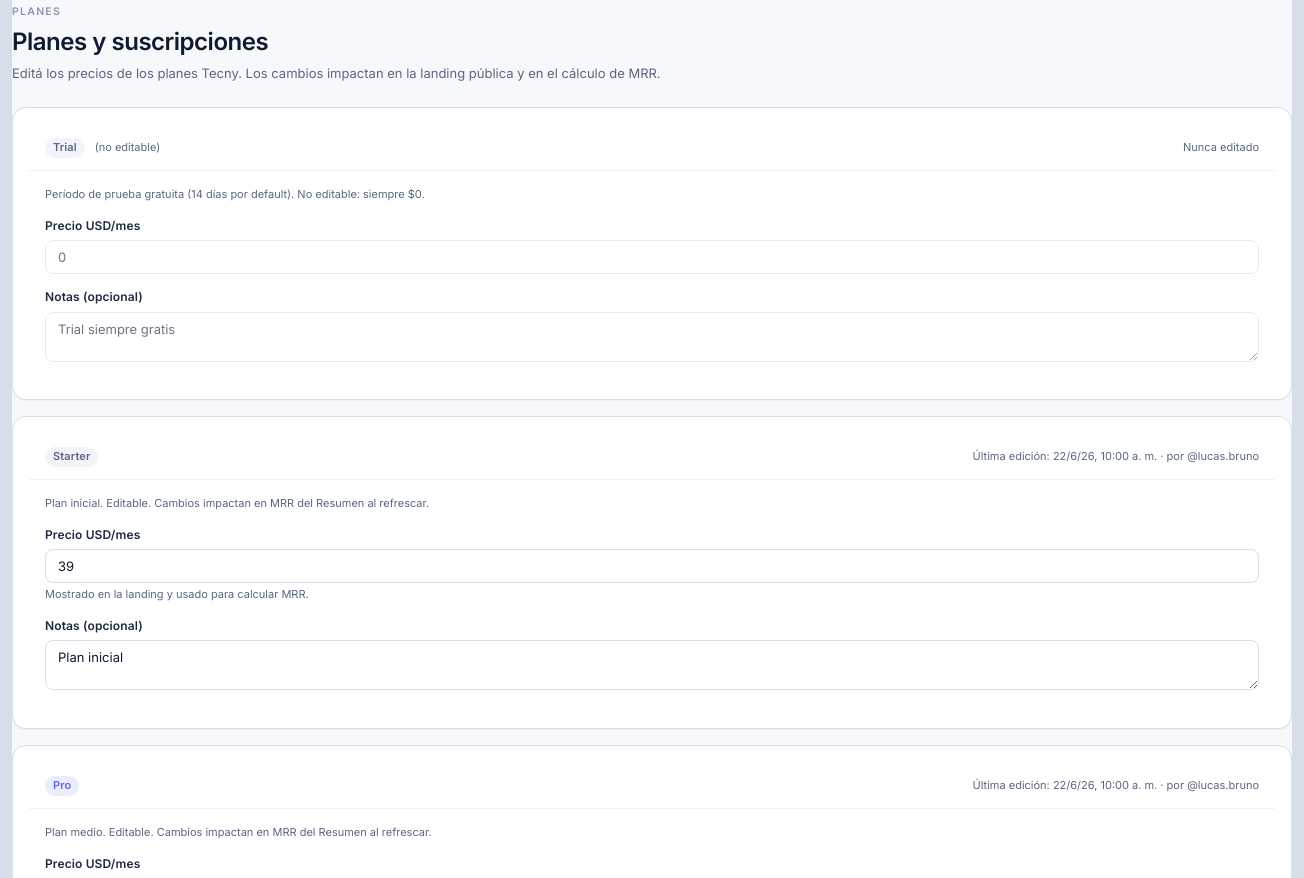
Test: Planes › validar cliente: borrar precio de starter NO abre modal y muestra error
The width and height of the screenshot is (1304, 878).
# Borrar el precio (input queda vacío).
Clear the number field named "Precio del plan starter" at (652, 566), box x1=45 y1=549 x2=1259 y2=583
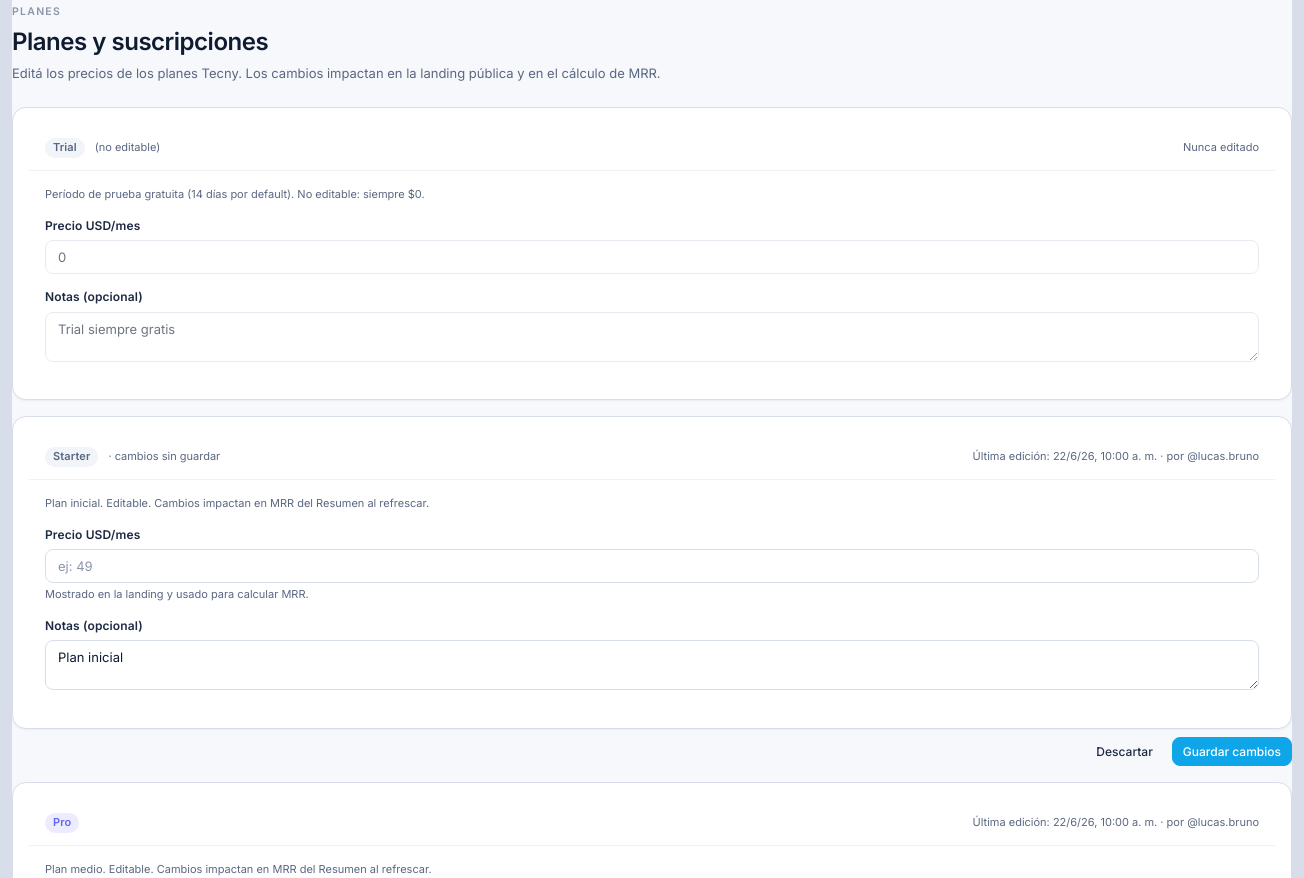
Click the button "Guardar cambios" at (1232, 751), box x1=1172 y1=737 x2=1292 y2=766
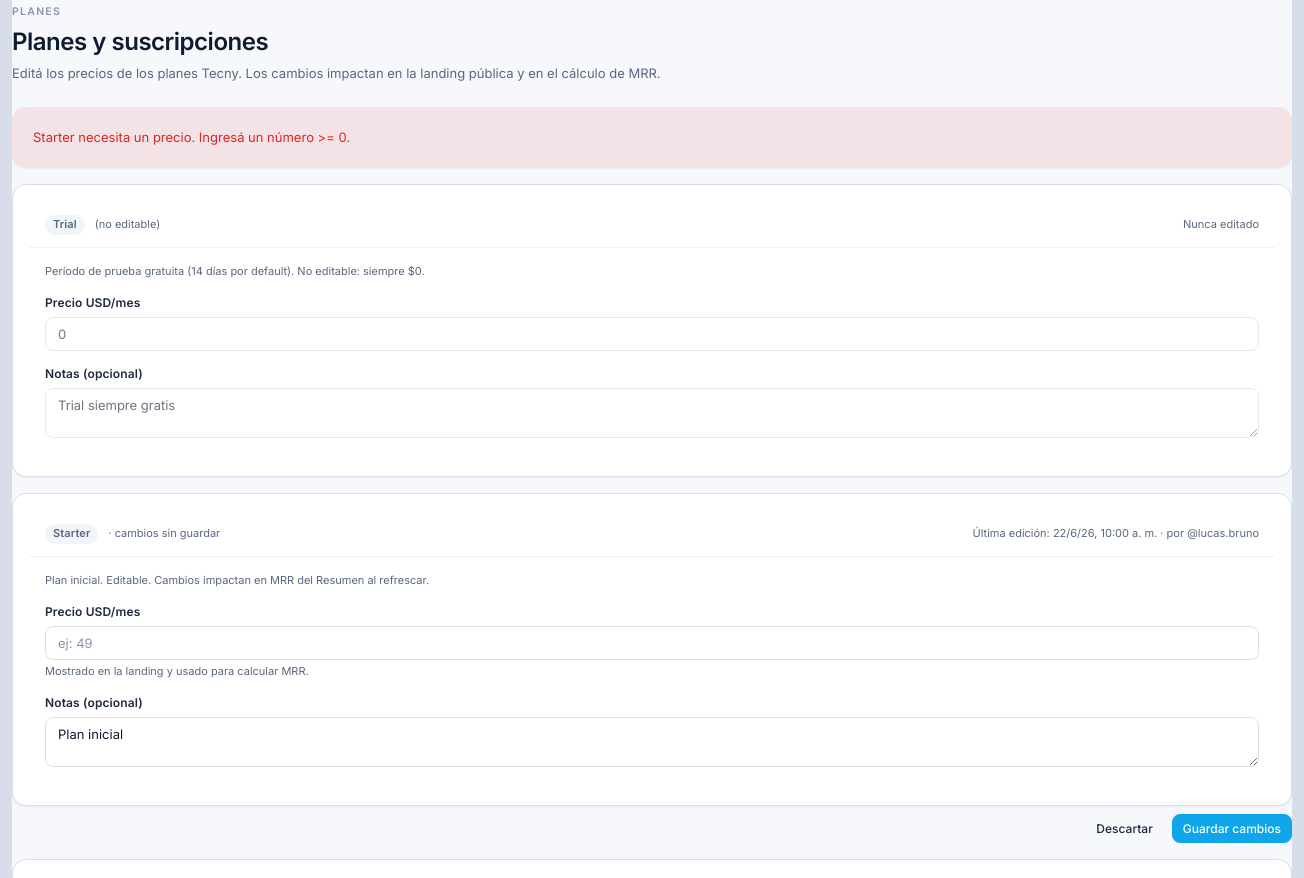
Check: the text "Starter necesita un precio. Ingresá un número >= 0." is shown, box x1=12 y1=107 x2=1292 y2=168
